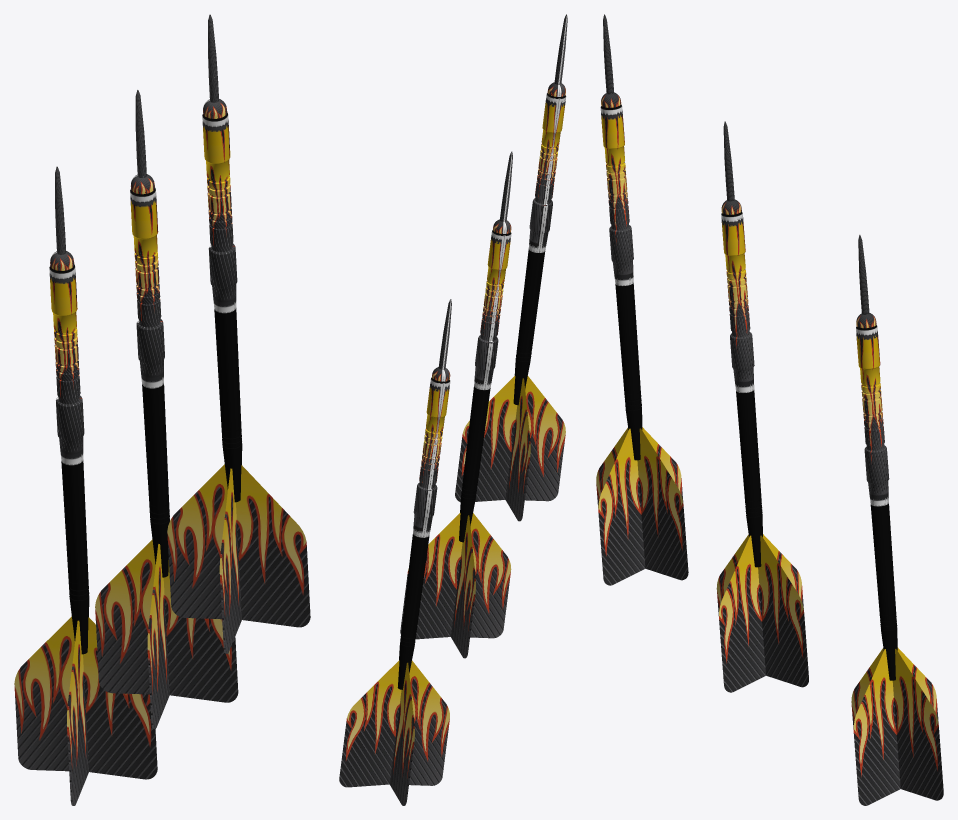
The model's file is firedart.gltf.
The picture shows the model from 3 angles, left to right: view 1: azimuth 30°, elevation 25°; view 2: azimuth 150°, elevation 25°; view 3: azimuth 270°, elevation 25°; orthographic projection. The views are drawn at different scales.
Visible parts, largest first — view 1: darts_obj.002, darts_obj.001, darts_obj; view 2: darts_obj.001, darts_obj, darts_obj.002; view 3: darts_obj.001, darts_obj.002, darts_obj.
Boxes of the visible parts, box(x1,y1,x2,y2) form: darts_obj.002: box(167, 14, 310, 653); darts_obj.001: box(14, 166, 157, 805); darts_obj: box(95, 89, 238, 729); darts_obj.001: box(339, 299, 451, 805); darts_obj: box(400, 151, 512, 658); darts_obj.002: box(455, 14, 567, 521); darts_obj.001: box(851, 234, 943, 805); darts_obj.002: box(596, 14, 688, 585); darts_obj: box(716, 121, 808, 692).
Bounding box in the file's own units: 0.7327 × 6.23 × 2.58.
Materials: 3 (3 with a texture image).
